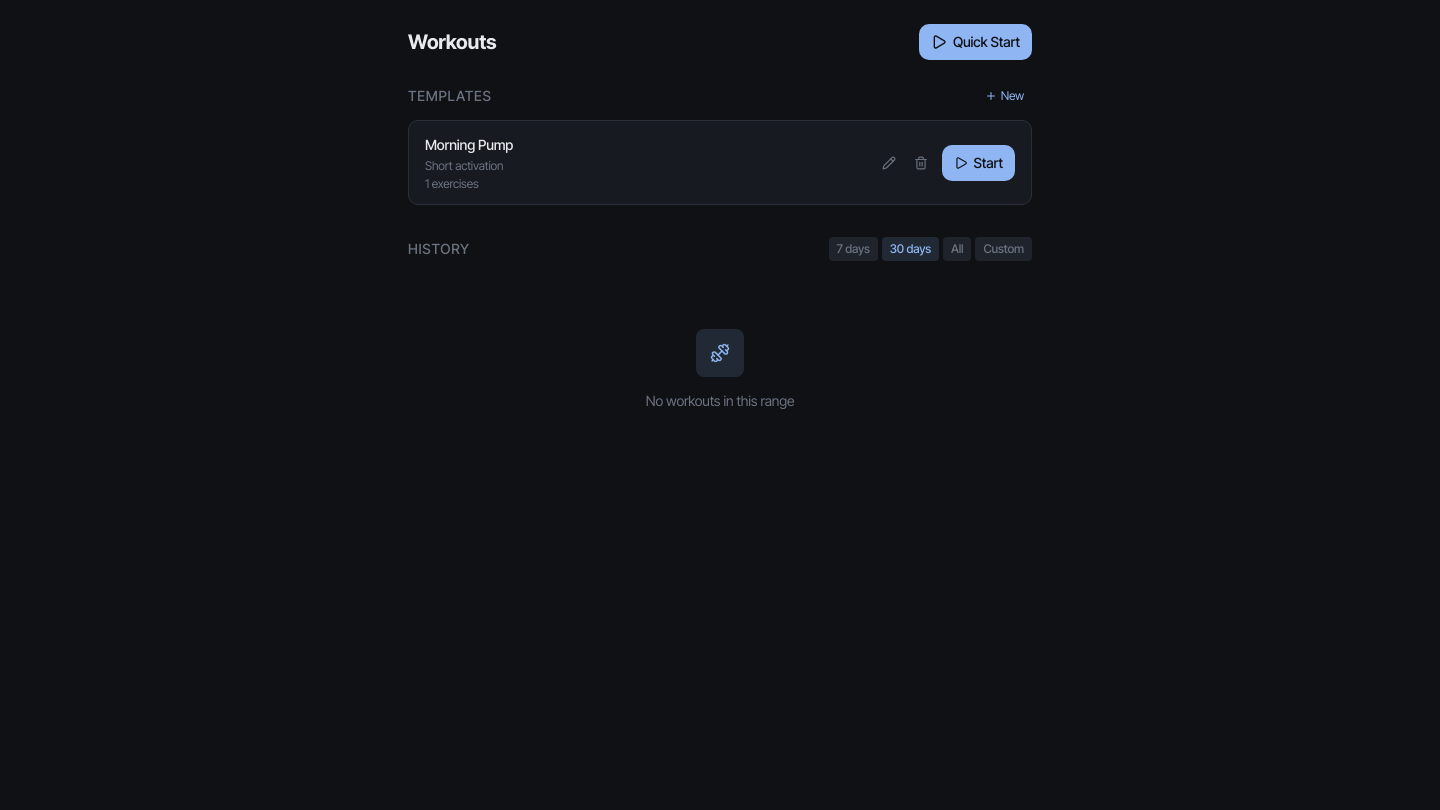
Scenario: WorkoutDashboard templates › opens the form in edit mode, prefilled, from the Edit button
Click the button named "Edit Morning Pump" at (888, 163), box [874, 148, 904, 178]
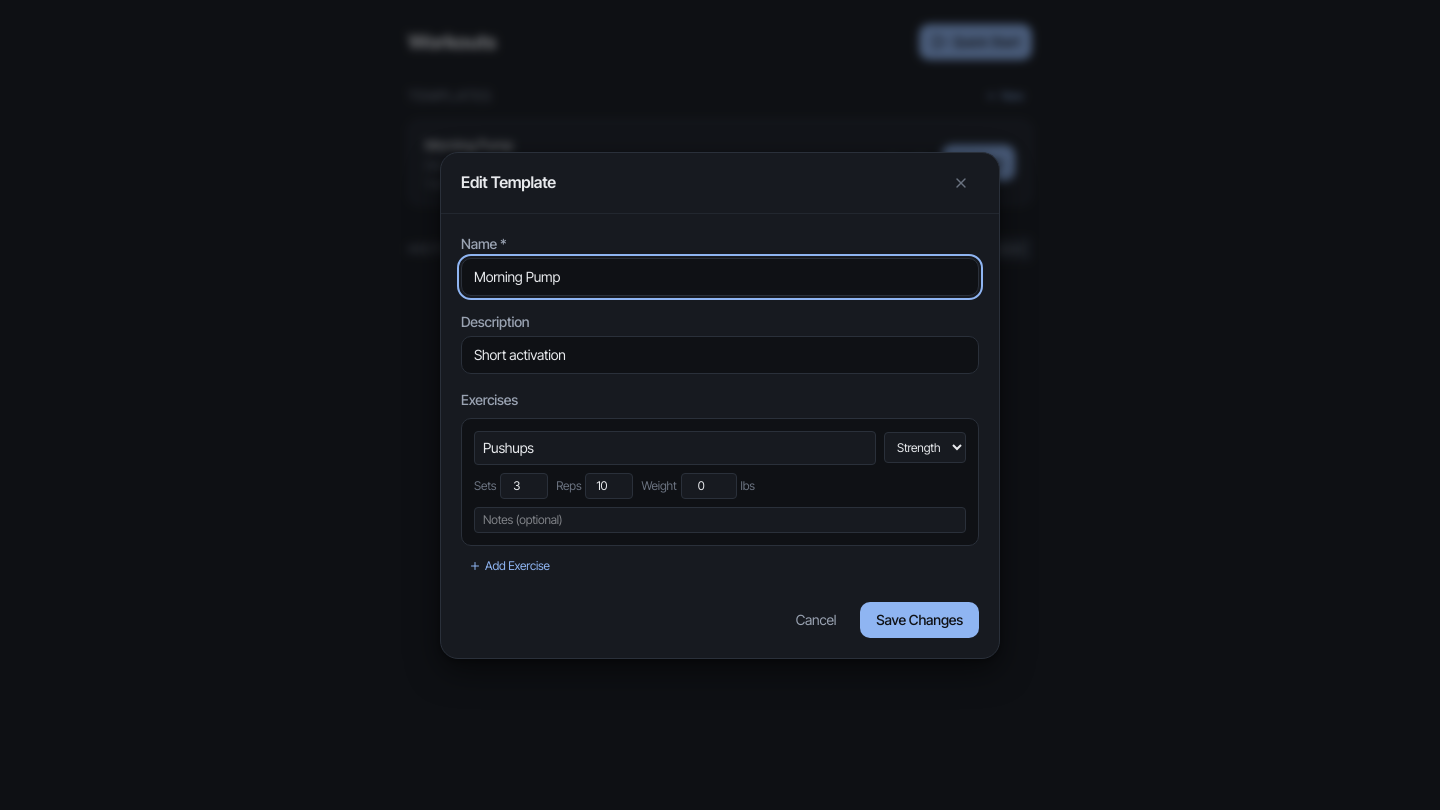
Expected: the heading "Edit Template" is shown, [461, 171, 556, 194]
Expected: the field showing "Morning Pump" is shown, [461, 258, 979, 296]
Expected: the field showing "Pushups" is shown, [474, 430, 876, 464]
